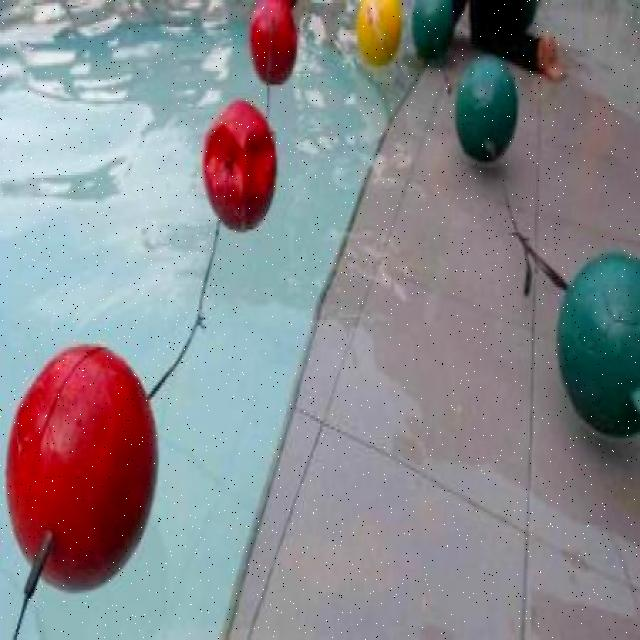buoy: (3, 340, 159, 590), (554, 250, 638, 440), (201, 100, 277, 234), (453, 53, 517, 160), (247, 0, 297, 85), (356, 0, 401, 65), (410, 0, 453, 60)
